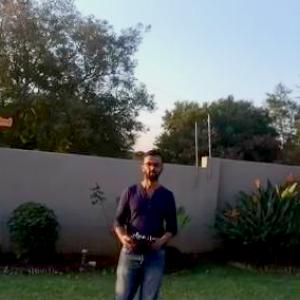follow: (100, 145, 183, 299)
